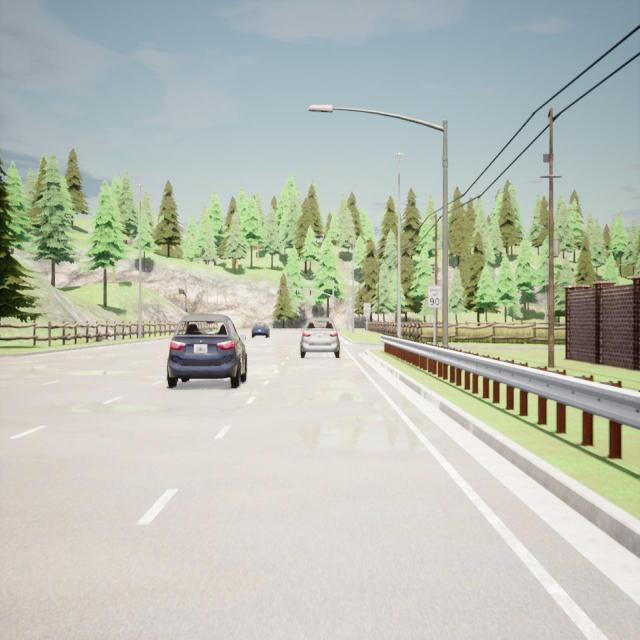Traffic_Signs: (428, 286, 441, 307), (364, 303, 371, 315)
Vehicle: (167, 314, 247, 388), (299, 316, 340, 360), (250, 321, 270, 338)
traffic_light: (279, 288, 281, 296), (295, 289, 297, 296), (309, 289, 311, 296), (179, 288, 180, 294), (181, 289, 182, 294), (183, 290, 184, 294)
